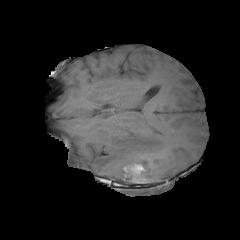glioma: (93, 124, 173, 181)
